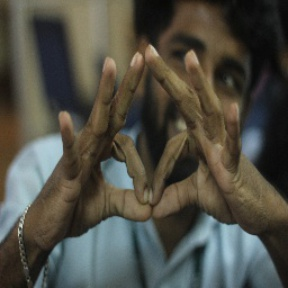B: (88, 127, 216, 225)
